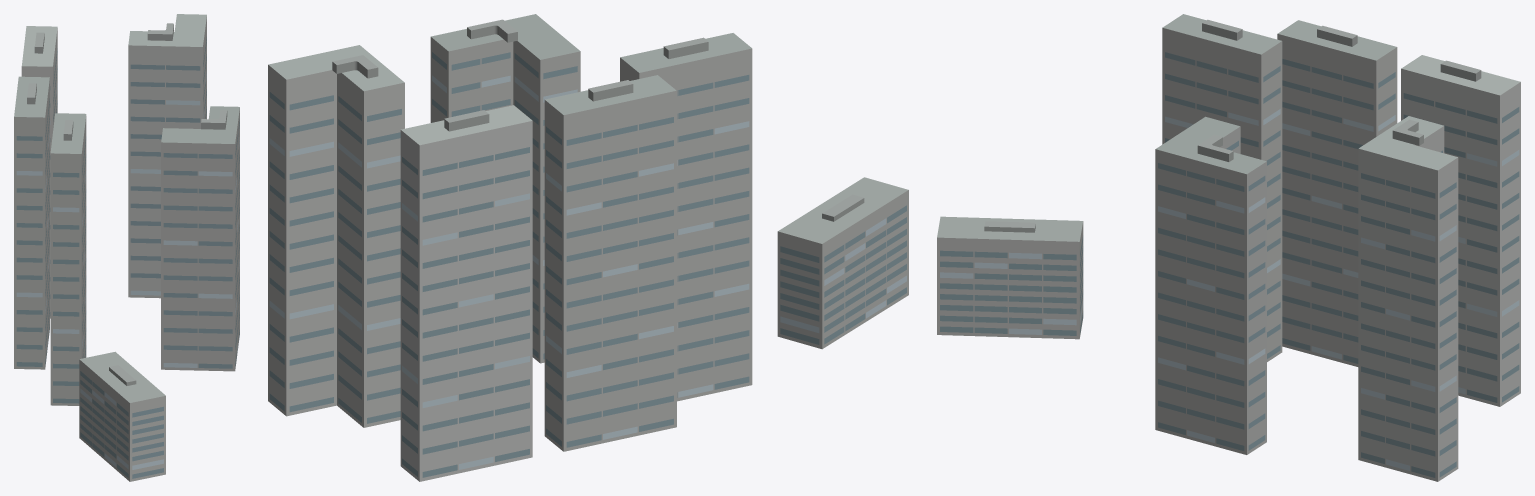
File: apt-a10023551.glb
The picture shows the model from 3 angles, left to right: view 1: azimuth 30°, elevation 25°; view 2: azimuth 150°, elevation 25°; view 3: azimuth 270°, elevation 25°; orthographic projection. The views are drawn at different scales.
Visible parts, largest first — view 1: apt-a10023551; view 2: apt-a10023551; view 3: apt-a10023551.
Part boxes in pixels (x1=…): apt-a10023551: x1=14, y1=14, x2=239, y2=481; apt-a10023551: x1=268, y1=14, x2=908, y2=481; apt-a10023551: x1=937, y1=14, x2=1520, y2=481.
Bounding box in the file's own units: 106 × 94 × 156.
